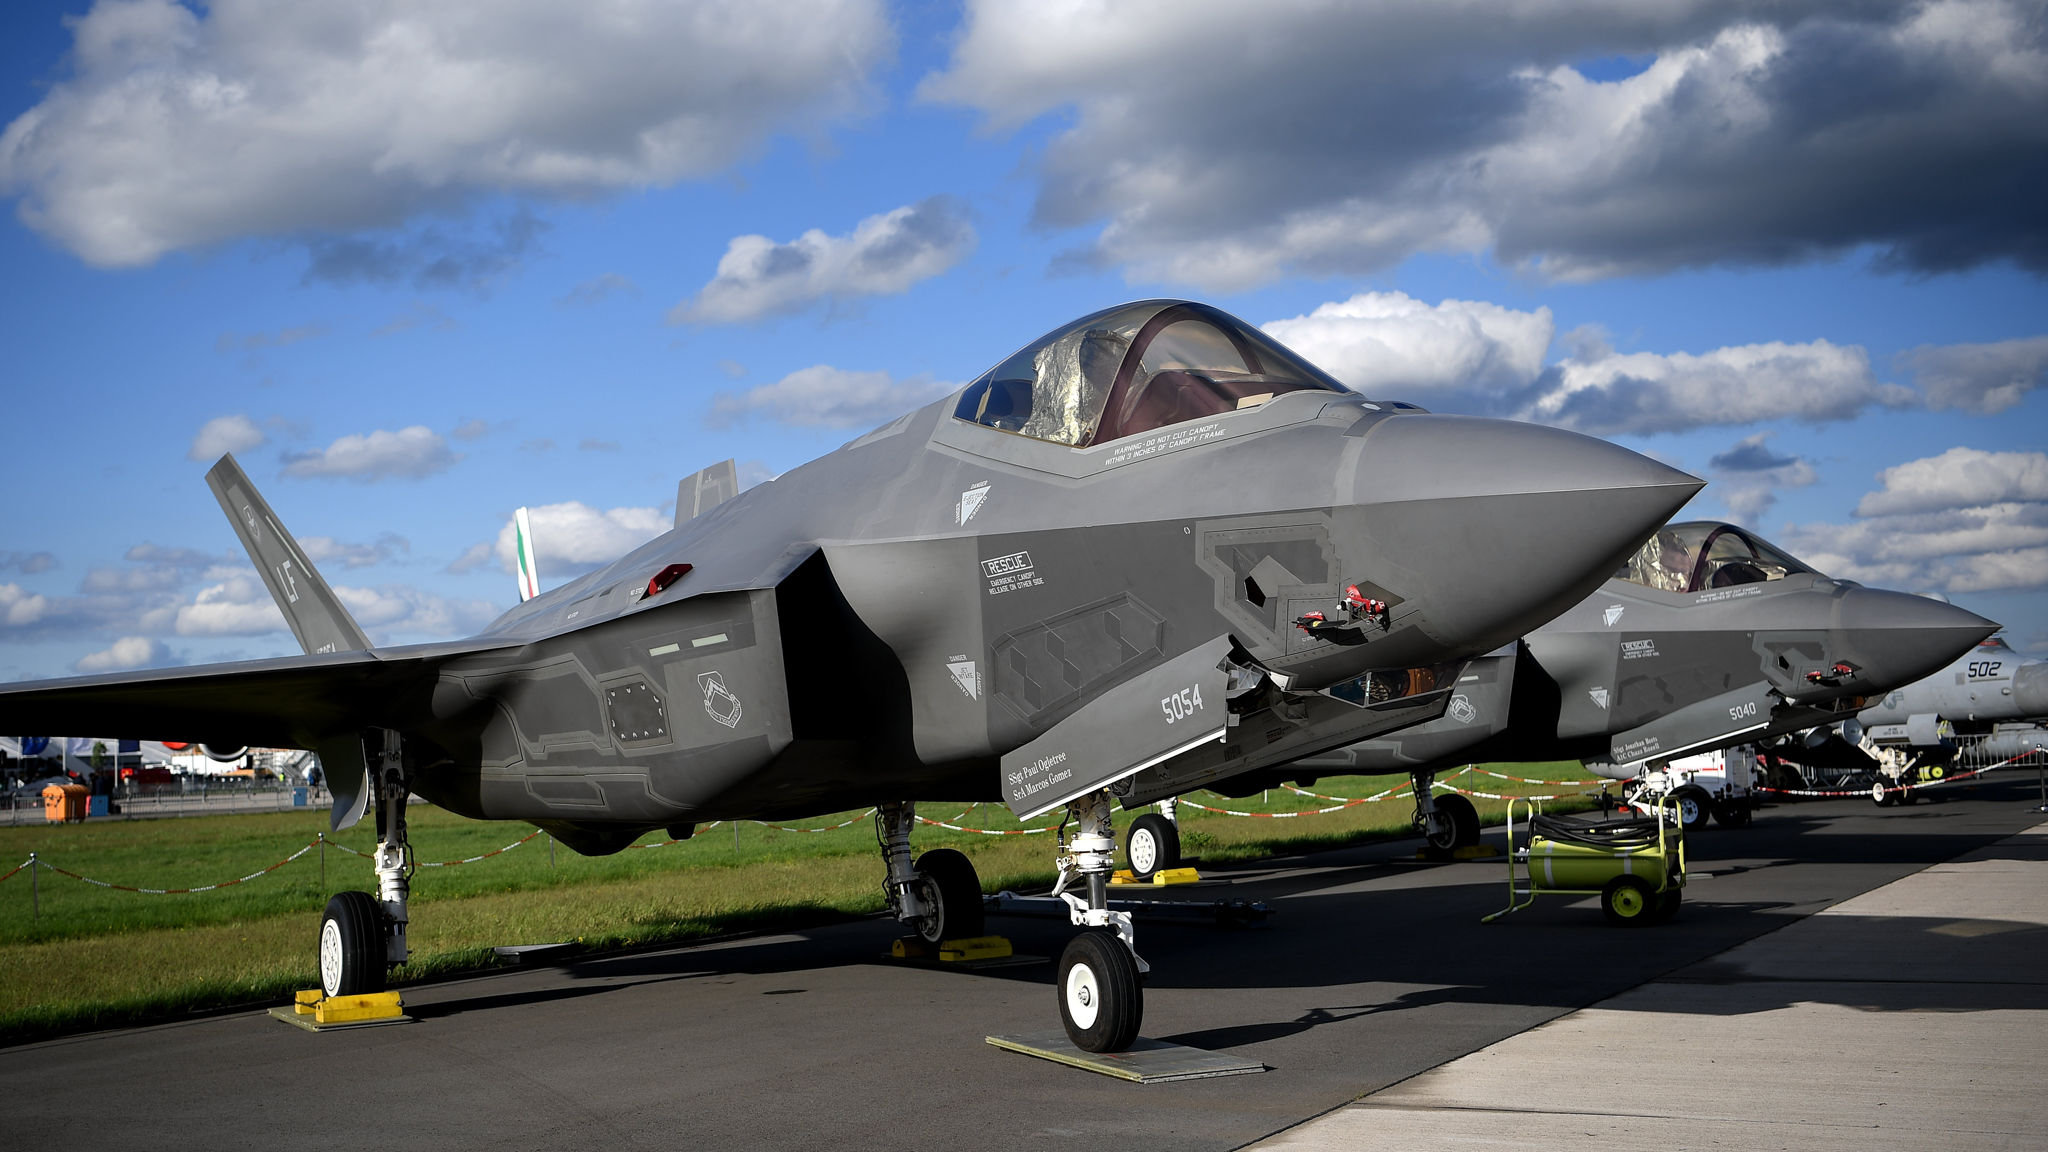F-35 Lightning: (15, 160, 1739, 1018), (1639, 485, 2025, 800)
